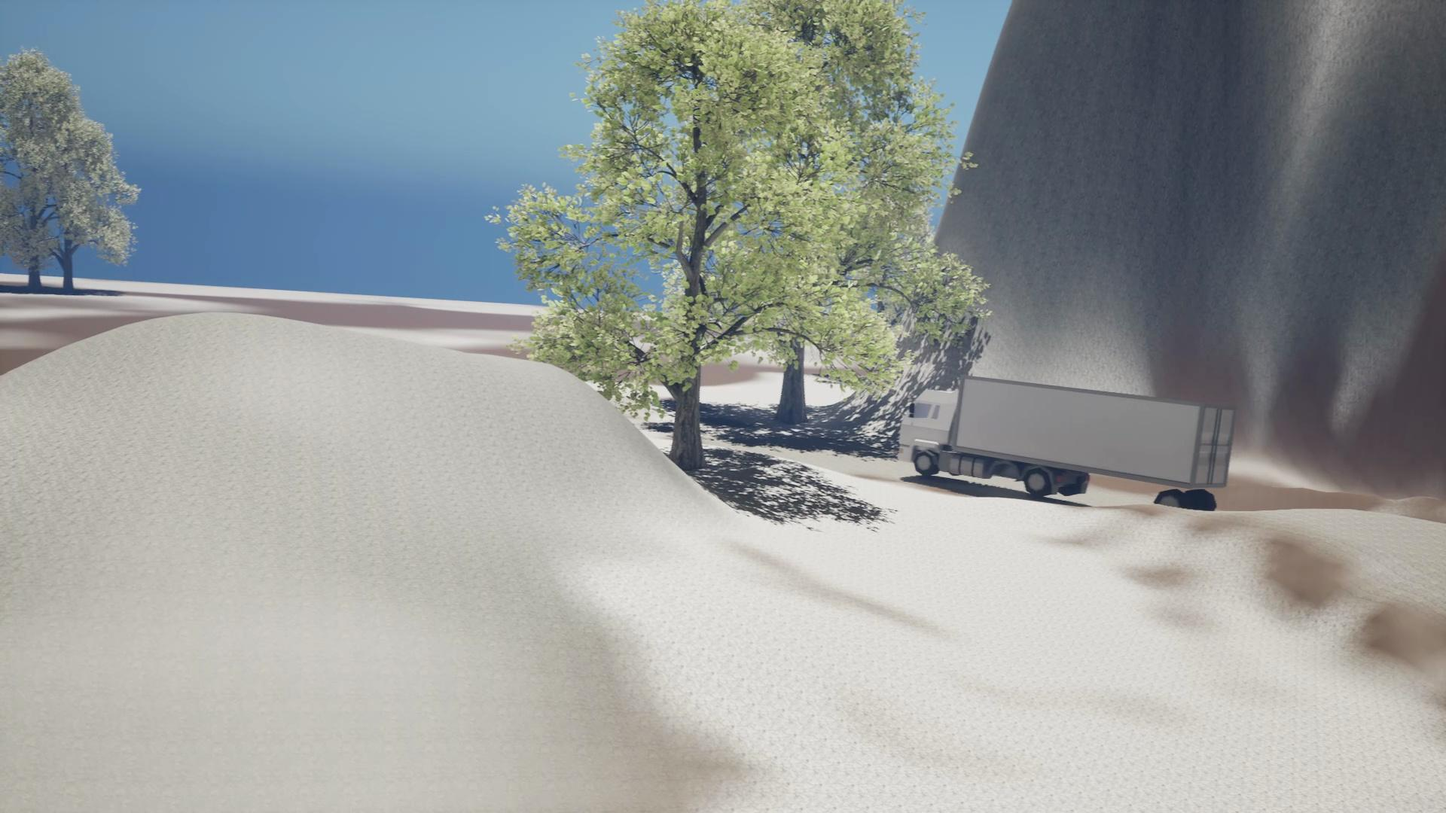truck: (897, 382, 1235, 494)
